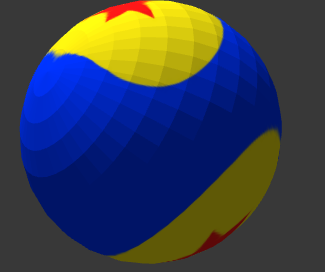toy story ball: (20, 1, 282, 264)
